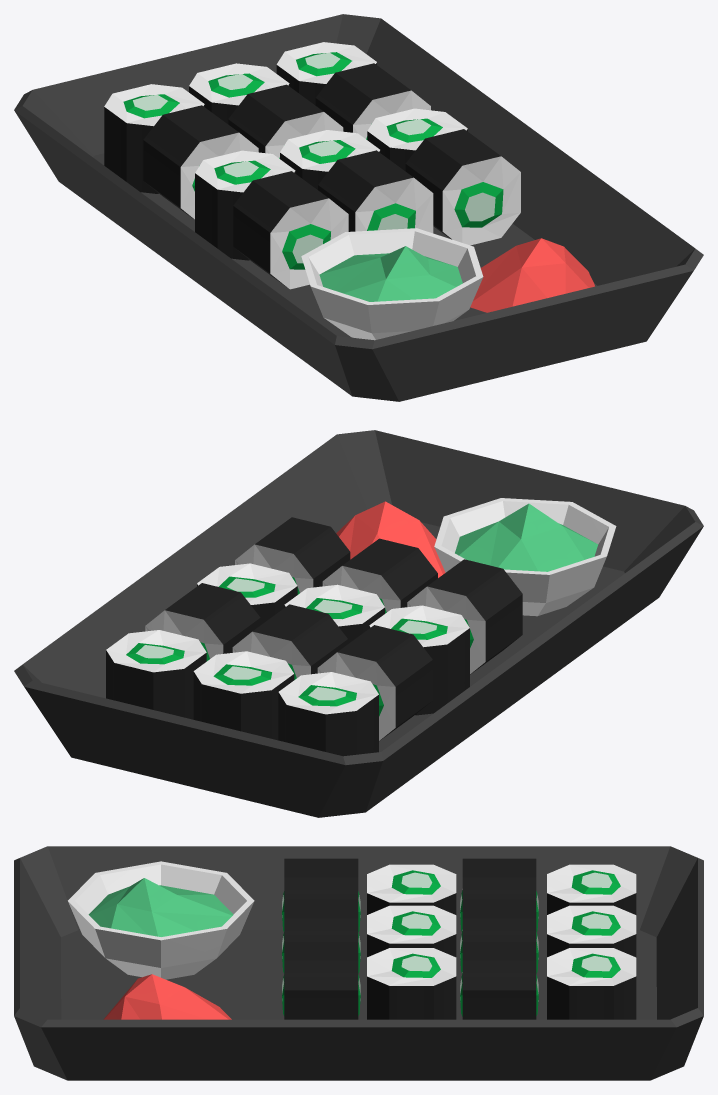
File: sushi_dish_001.glb
3 views of the same model, one above another, from view 1: azimuth 30°, elevation 25°; view 2: azimuth 150°, elevation 25°; view 3: azimuth 270°, elevation 25° (orthographic).
Parts seen in each view (by area): view 1: sushi_dish_001; view 2: sushi_dish_001; view 3: sushi_dish_001.
Boxes of the visible parts, bbox=[...] form: sushi_dish_001: bbox=[14, 14, 703, 401]; sushi_dish_001: bbox=[14, 430, 703, 817]; sushi_dish_001: bbox=[14, 846, 703, 1080].
Size of the model in its own units: 0.1234 by 0.0319 by 0.2017.
Materials: 1 (1 with a texture image).
